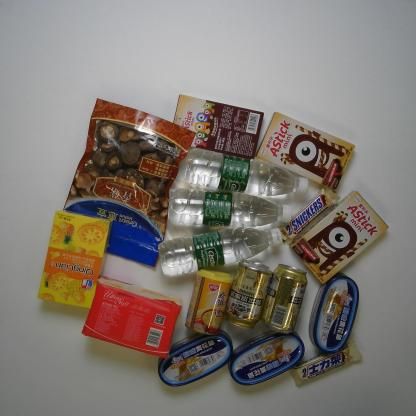Alcohol: (260, 263, 308, 334), (226, 260, 272, 330)
Canned Food: (227, 328, 304, 388), (157, 328, 234, 387), (310, 274, 358, 352), (184, 268, 233, 336)
Chocolate: (273, 185, 342, 248), (287, 333, 364, 386)
Dessert: (290, 190, 389, 285), (256, 111, 356, 191), (37, 209, 111, 310), (166, 95, 264, 160)
Dried Food: (53, 98, 196, 268)
Drink: (176, 142, 309, 196), (157, 226, 285, 277), (165, 190, 293, 230)
Tissue: (80, 276, 181, 360)
